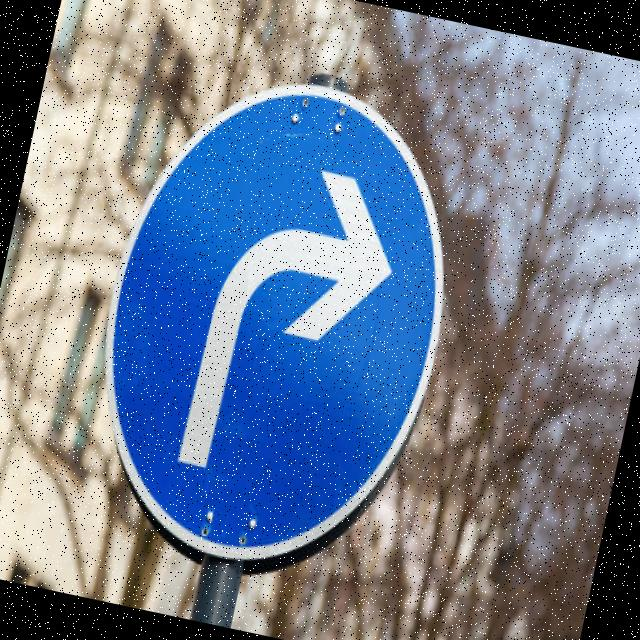compulsory_keep_right: (59, 44, 496, 602)
